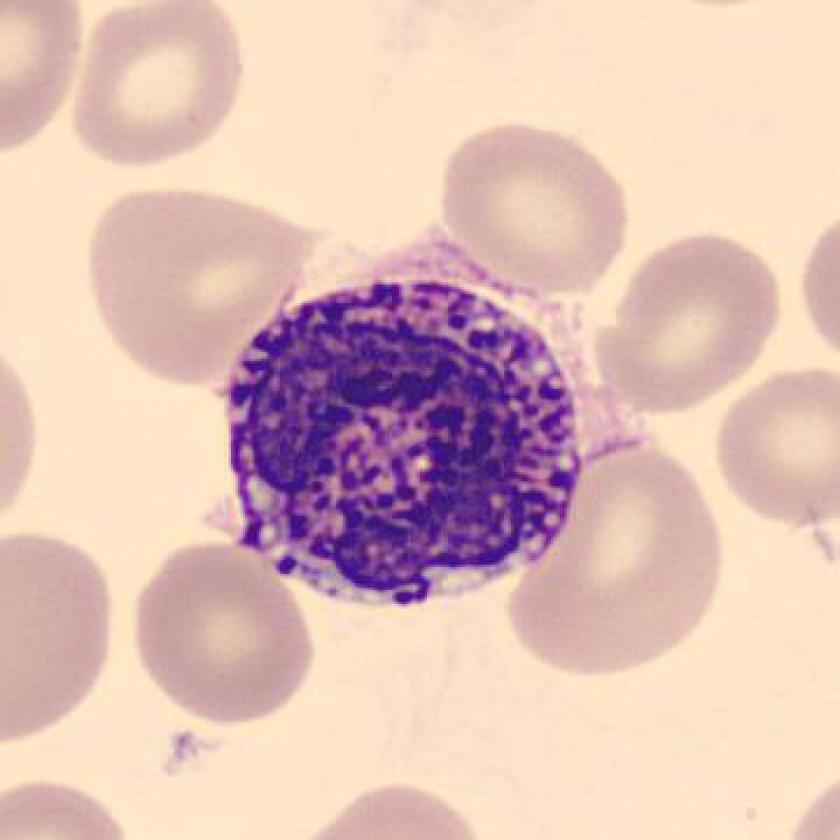basophil: (209, 267, 598, 610)
